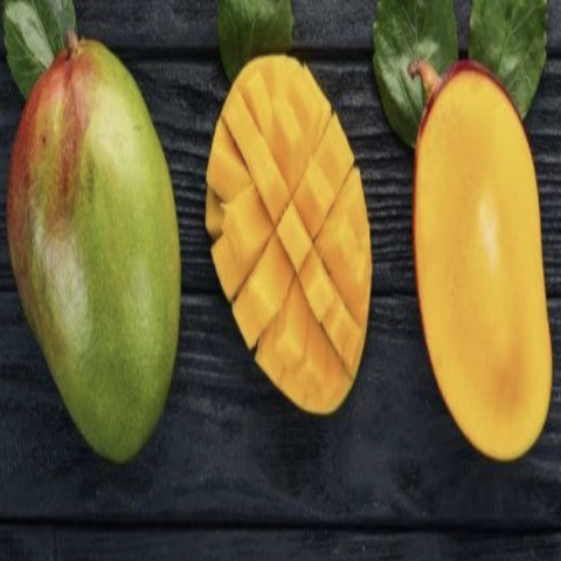mango: (0, 15, 190, 482), (196, 51, 375, 478), (395, 36, 560, 472)
